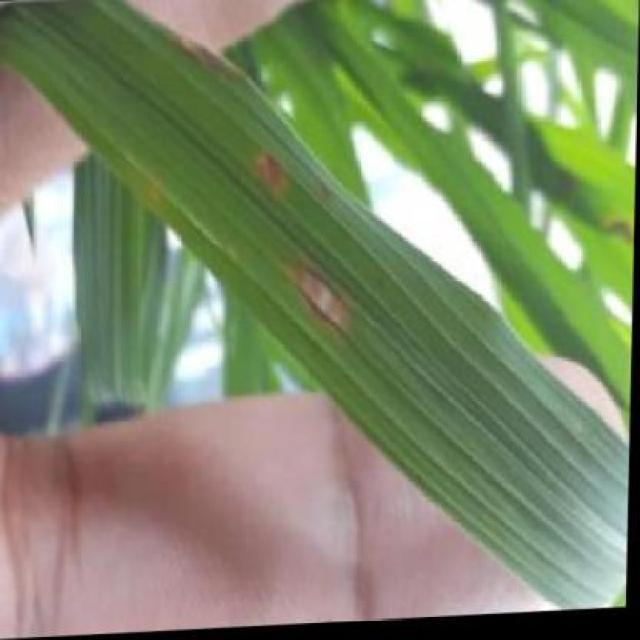Bacterial_Leaf_Blight: (216, 117, 316, 229), (279, 263, 390, 362)
